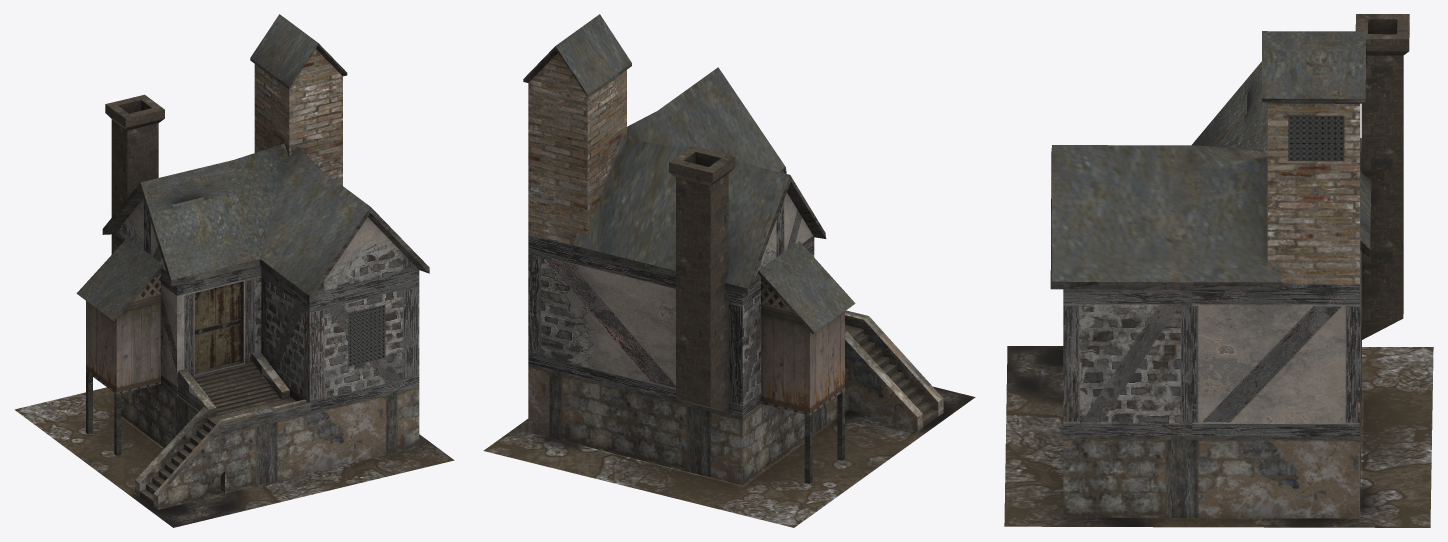
File: Large House.FBX
3 renders of one model, left to right at view 1: azimuth 30°, elevation 25°; view 2: azimuth 150°, elevation 25°; view 3: azimuth 270°, elevation 25°, orthographic. The views are drawn at different scales.
Visible parts, largest first — view 1: Large-House; view 2: Large-House; view 3: Large-House.
Boxes of the visible parts, x1=… form: Large-House: x1=14, y1=14, x2=454, y2=527; Large-House: x1=483, y1=14, x2=975, y2=527; Large-House: x1=1004, y1=14, x2=1433, y2=527.
Bounding box in the file's own units: 5.93 × 7.14 × 5.91.
